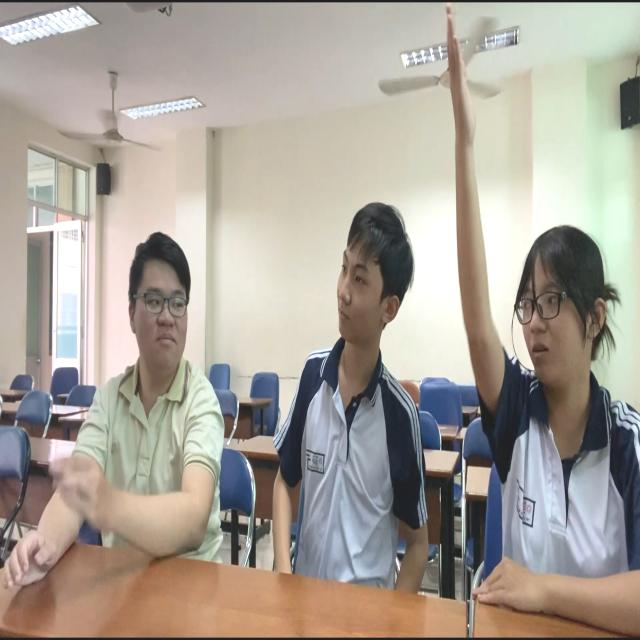raise_hand: (440, 1, 640, 640)
